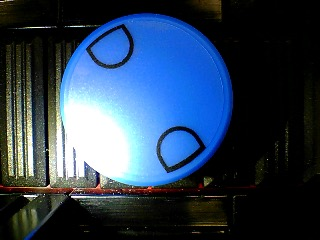MIPO2: (59, 13, 233, 187)
